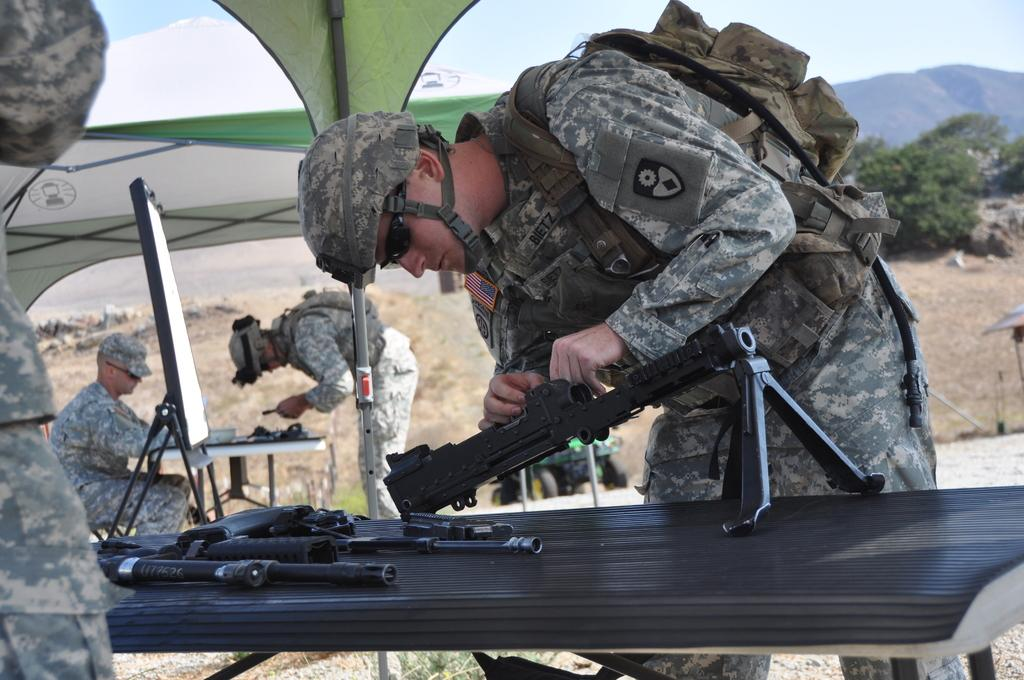non-violence: (293, 0, 942, 679), (230, 292, 418, 524), (45, 333, 193, 534)
weapon: (398, 320, 891, 534), (119, 491, 393, 583)
